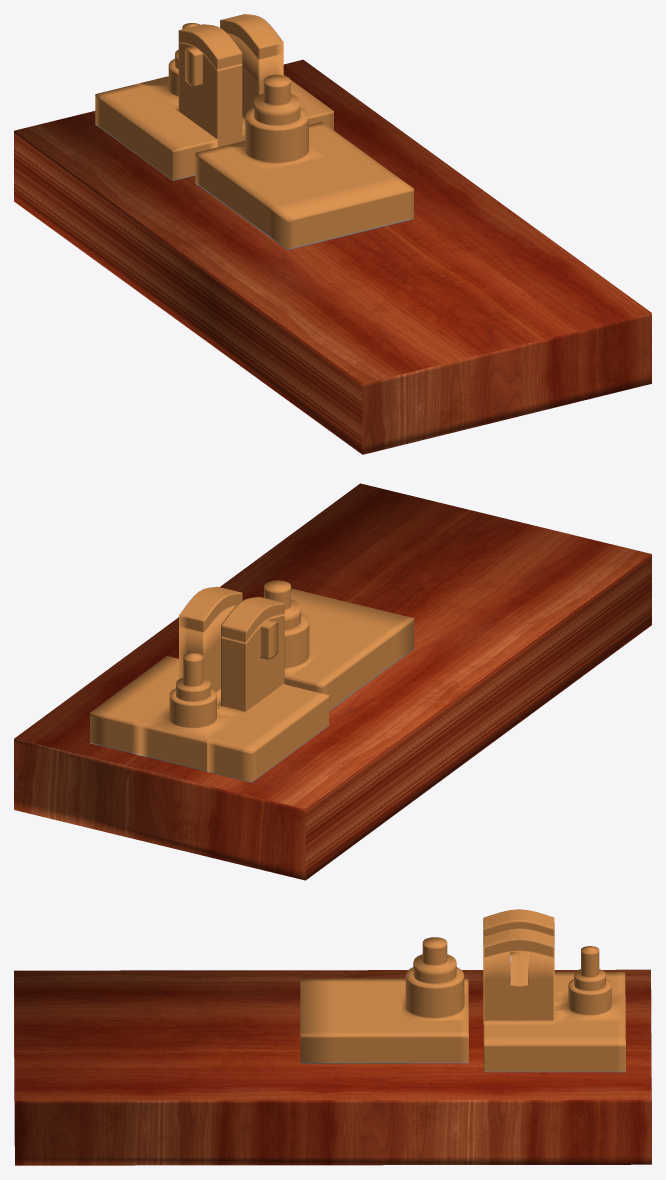
Rendered from Base_Telegrafo.fbx.
3 renders of one model, top to bottom at view 1: azimuth 30°, elevation 25°; view 2: azimuth 150°, elevation 25°; view 3: azimuth 270°, elevation 25°, orthographic. The views are drawn at different scales.
Parts seen in each view (by area): view 1: BaseTelegrafo; view 2: BaseTelegrafo; view 3: BaseTelegrafo.
Boxes of the visible parts, box(x1,y1,x2,y2) form: BaseTelegrafo: box(14, 14, 651, 454); BaseTelegrafo: box(14, 483, 651, 880); BaseTelegrafo: box(14, 909, 651, 1165).
Size of the model in its own units: 15.07 by 9.45 by 31.08.
